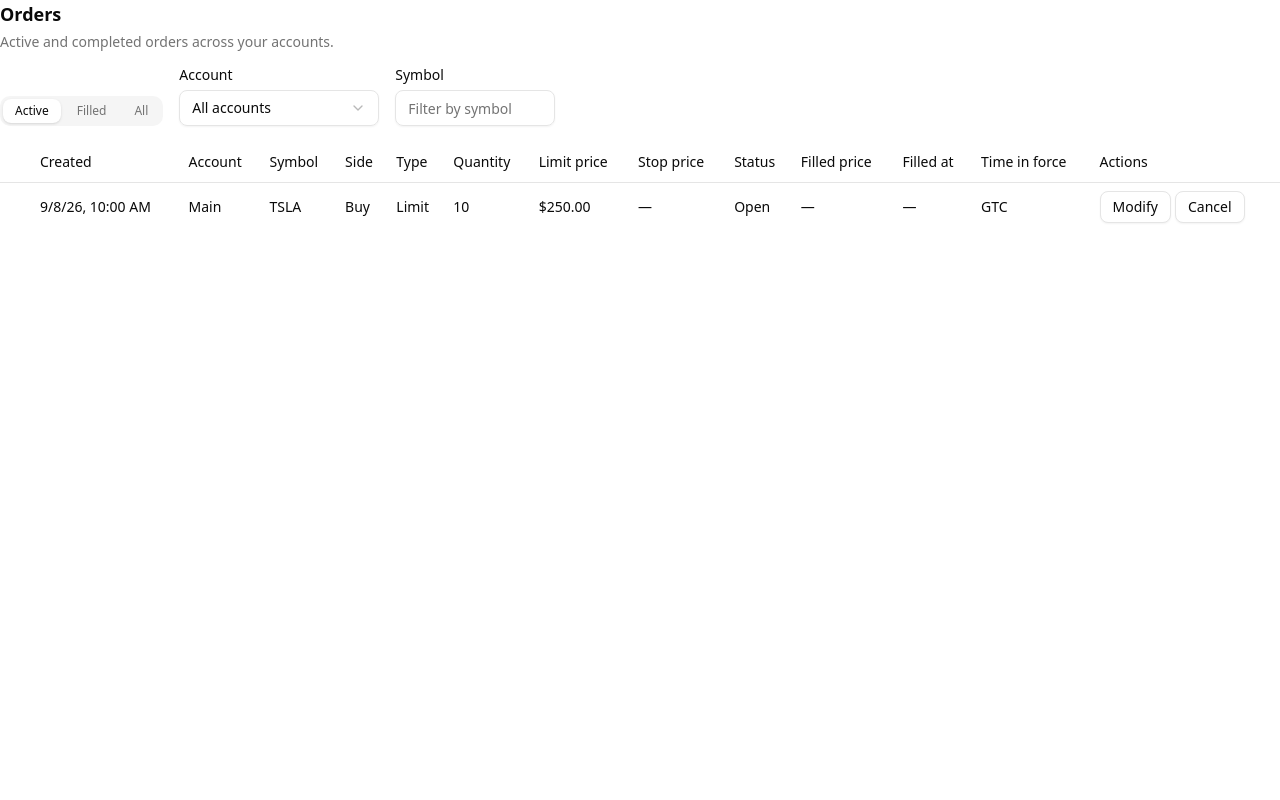
Test: OrdersPage › sends the new limit price with the version and offers a reload on a version conflict
Expected: the row that starts with "9/8/26, 10:00 AM" is shown, 0,182 -> 1279,230
Step 1. Click the button "Modify" → {"x": 1135, "y": 206}, box 1100,190 -> 1171,222
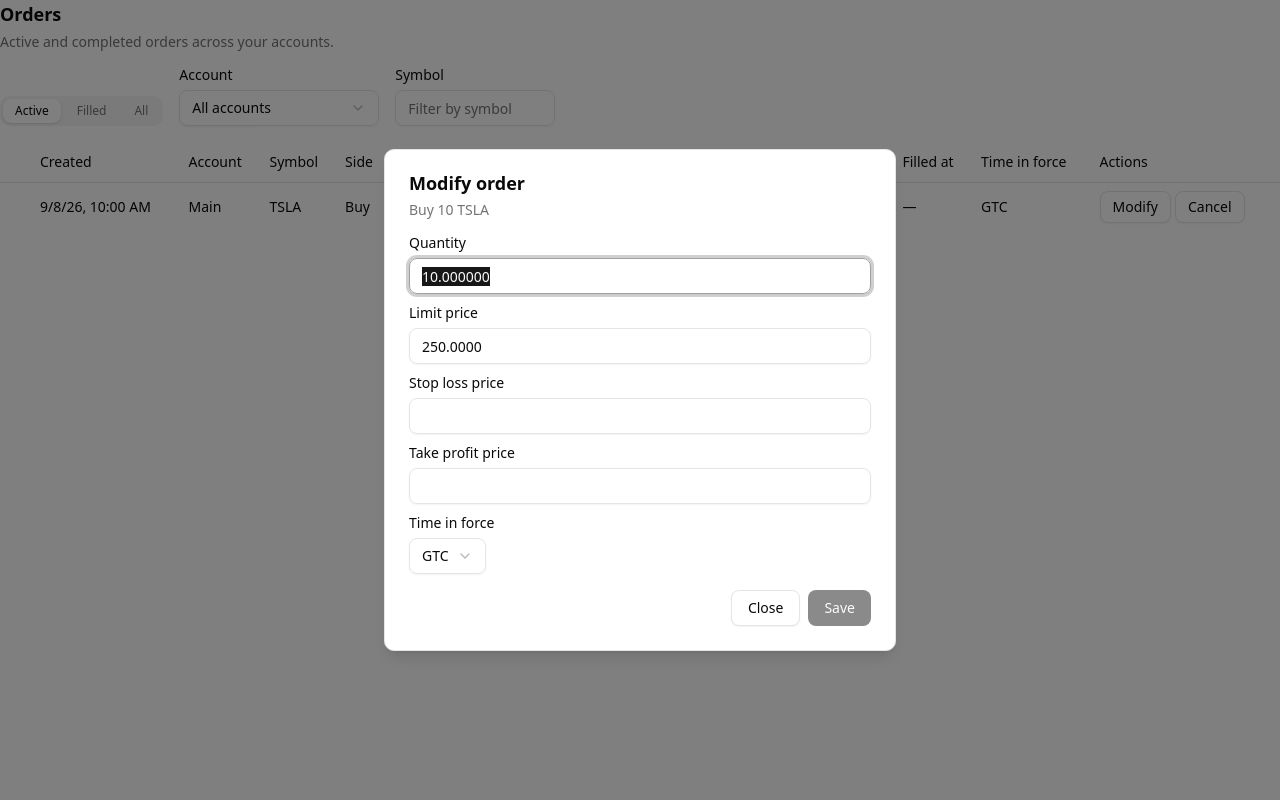
Now the field labelled "Limit price" holds "250.0000"
Step 2. Replace the text in the field labelled "Limit price" with "245.0000" → {"x": 640, "y": 346}, box 409,328 -> 871,364
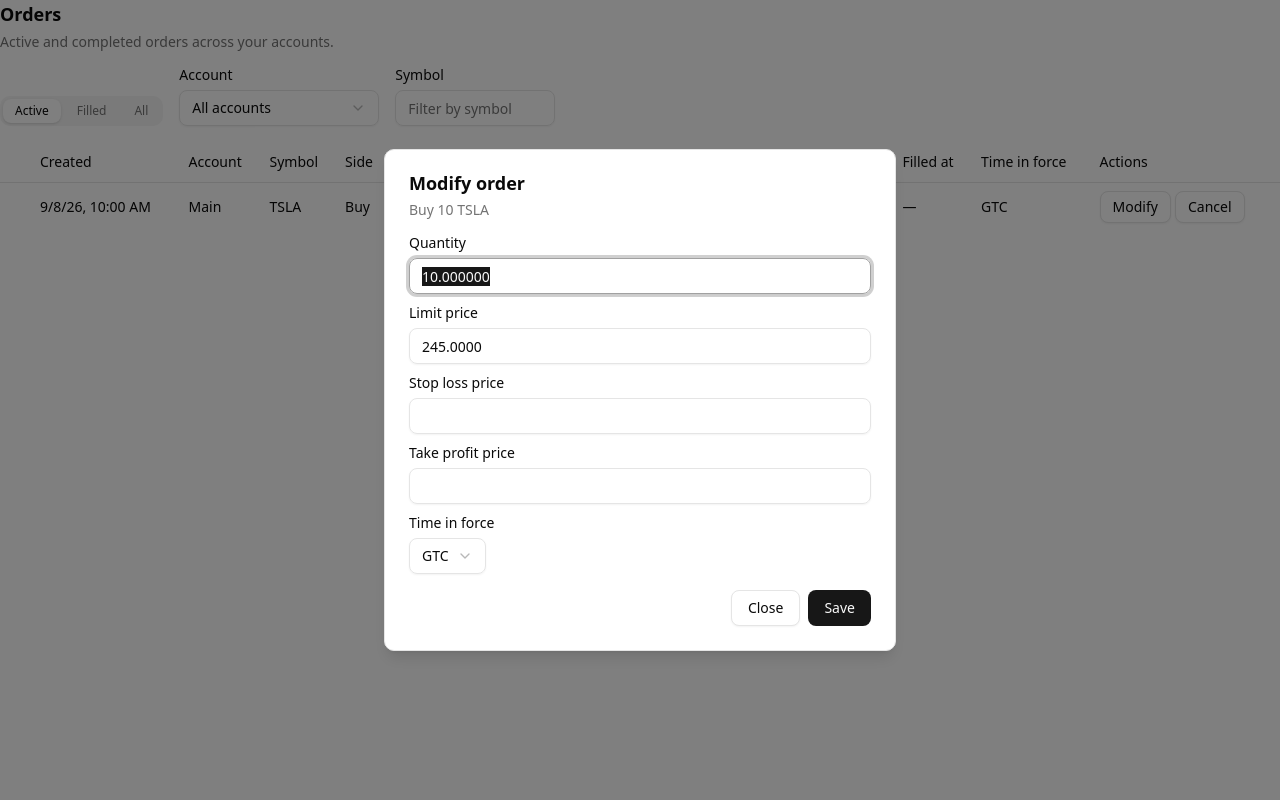
Step 3. Click the button "Save" → {"x": 840, "y": 608}, box 808,590 -> 871,626
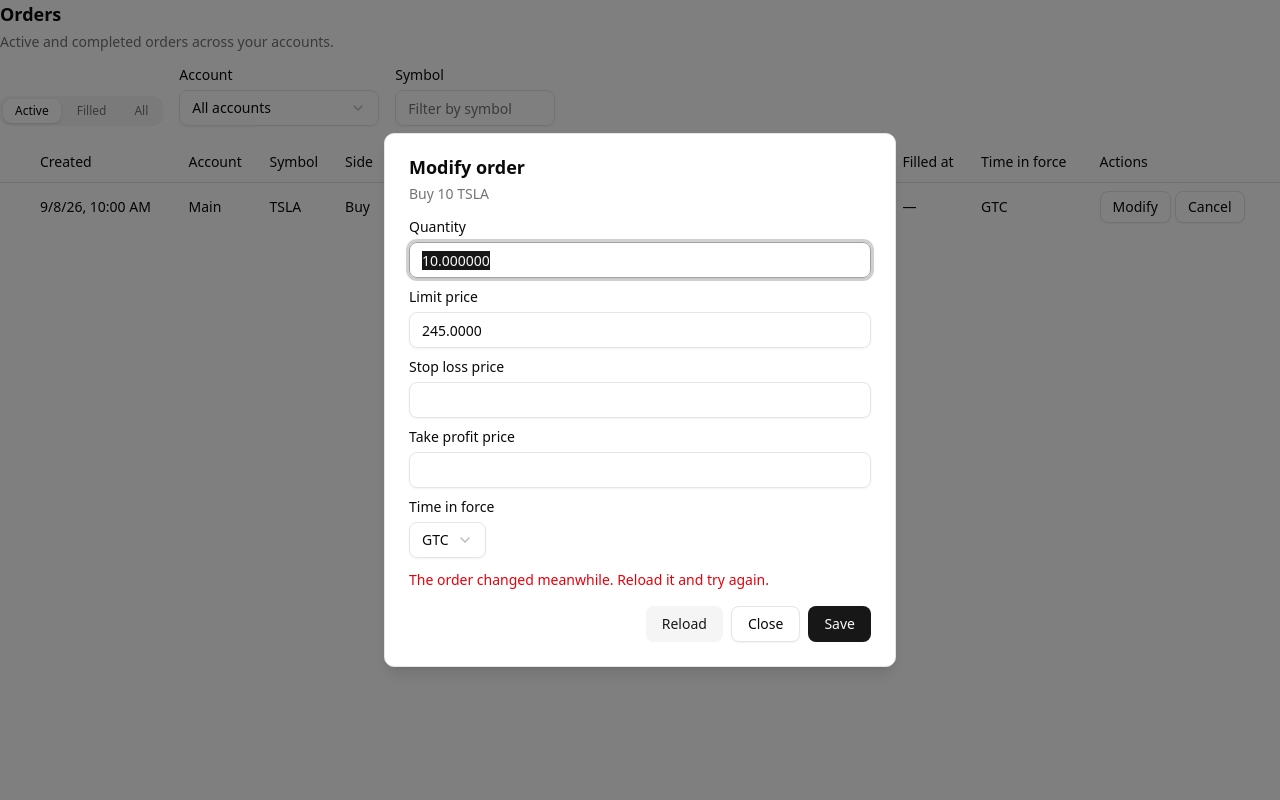
Now the message reads "The order changed meanwhile. Reload it and try again.", box 409,570 -> 769,589
Step 4. Click the button "Reload" → {"x": 684, "y": 624}, box 646,606 -> 723,642
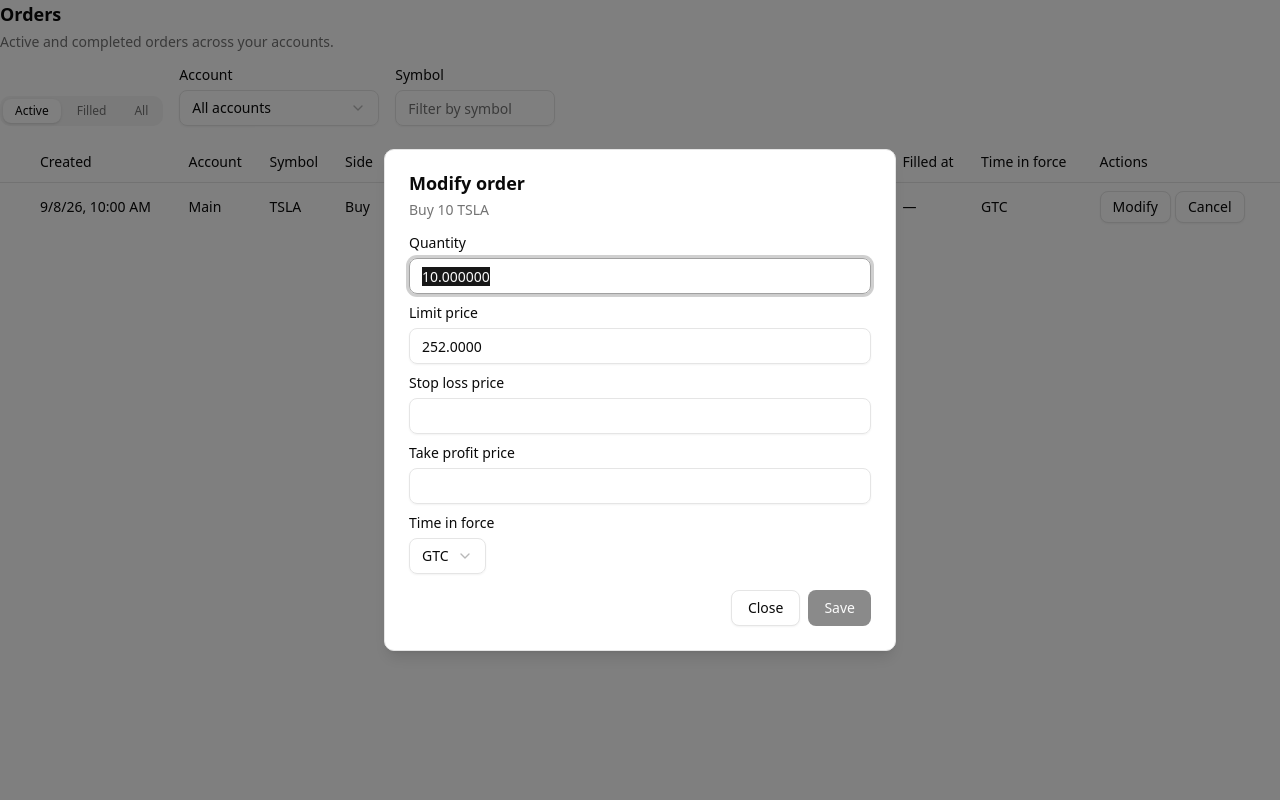
Now the field labelled "Limit price" holds "252.0000", box 409,328 -> 871,364
